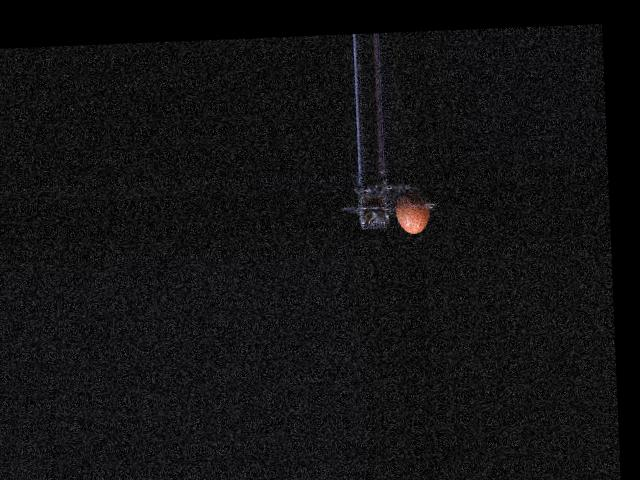egg: (395, 187, 431, 234)
